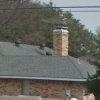Chimney: (44, 15, 78, 71)
